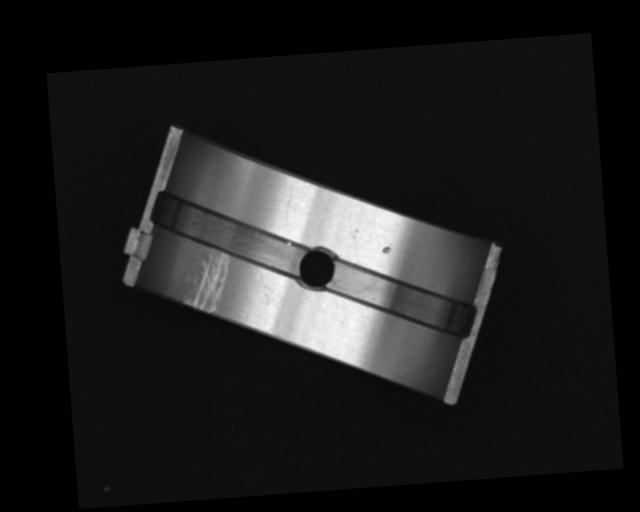bruise: (381, 244, 392, 255)
gap: (152, 181, 309, 284), (326, 254, 475, 346)
hole: (297, 246, 337, 290)
nick: (282, 180, 296, 219)
scratch: (181, 248, 233, 315)
